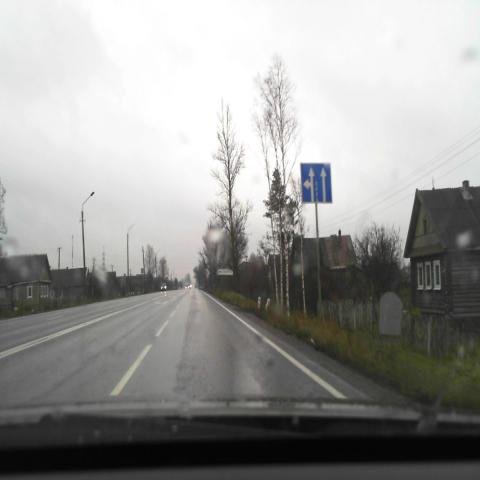5_15_2_2: (300, 163, 332, 203)
